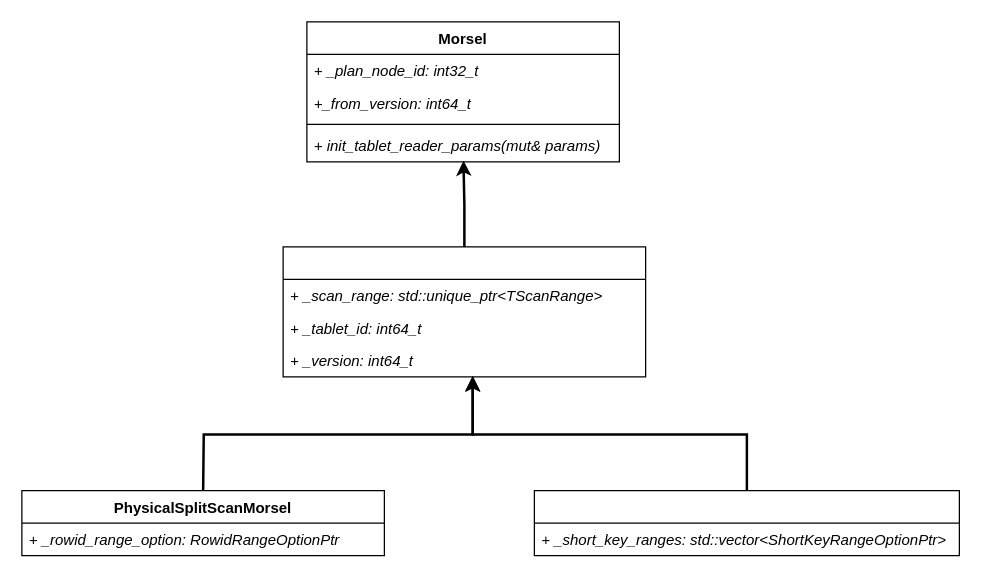
Image size: 981x581. Some labels were removed from this diagram. The shapes that lost their labels are listed below. From the top down, each one's box as (x1, y1, x2, y2) in pixels, then its label:
(282, 246, 646, 377): ScanMorsel
(533, 489, 959, 556): LogicalSplitScanMorsel
